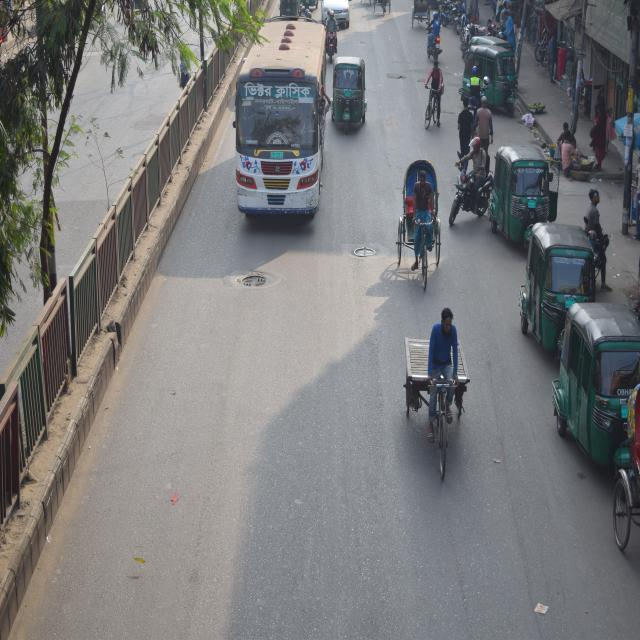bus: (231, 10, 330, 229)
car: (321, 0, 352, 31)
motorbike: (446, 143, 494, 224), (581, 212, 621, 272), (319, 17, 343, 60), (420, 26, 446, 58), (438, 0, 466, 25)
